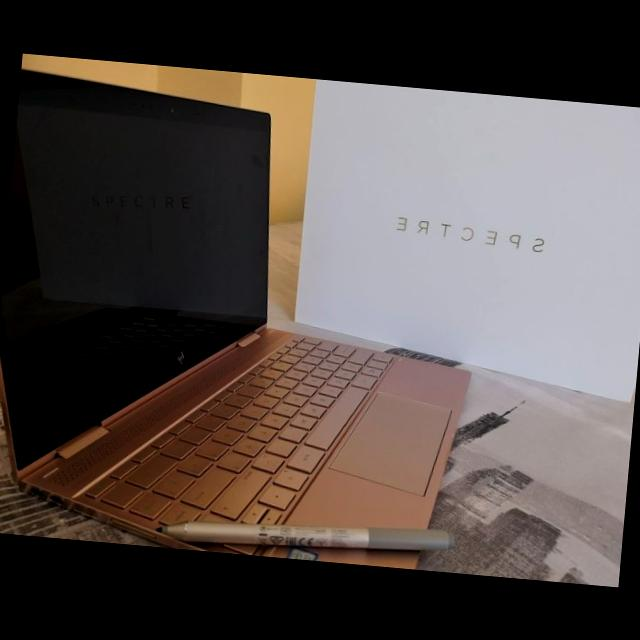laptop: (0, 67, 491, 546)
